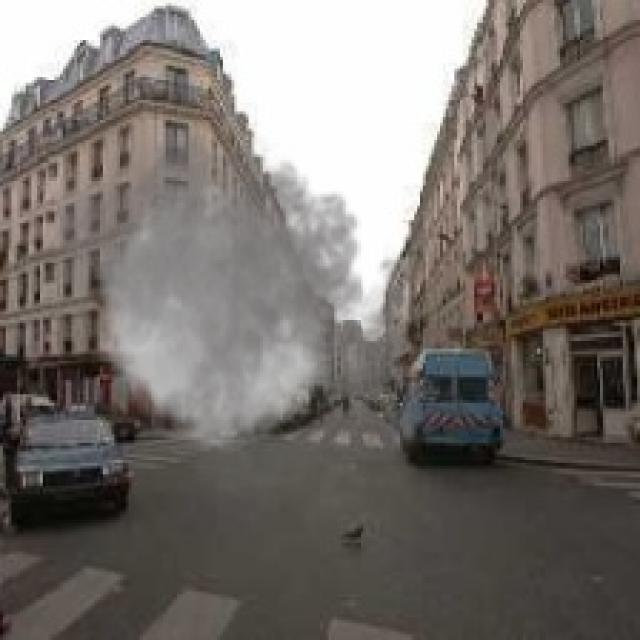smoke: (37, 106, 437, 523)
